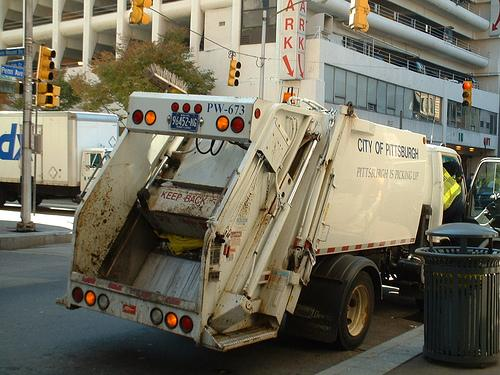truck: (55, 91, 500, 353)
